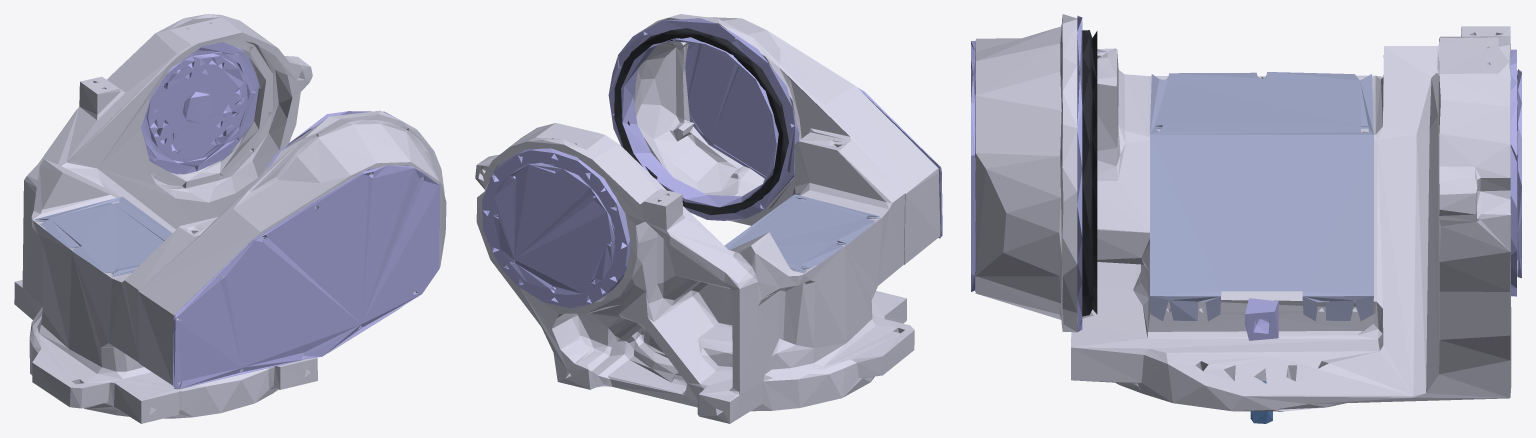
The picture shows the model from 3 angles, left to right: view 1: azimuth 30°, elevation 25°; view 2: azimuth 150°, elevation 25°; view 3: azimuth 270°, elevation 25°; orthographic projection. The views are drawn at different scales.
Parts seen in each view (by area): view 1: J1; view 2: J1; view 3: J1.
Boxes of the visible parts, x1,y1,x2,y2 form: J1: (14,14,446,423); J1: (475,14,942,423); J1: (971,14,1521,423).
Bounding box in the file's own units: 0.4447 × 0.4328 × 0.3453.
